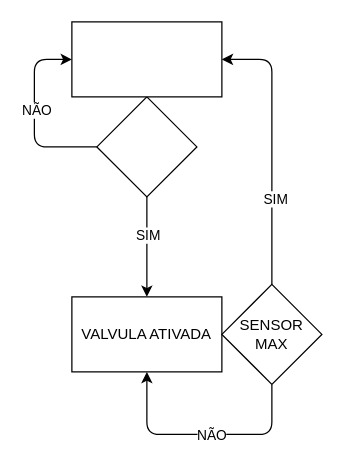
The diagram is 344 pixels wide and 466 high, and some of its shapes have lost their labels. Here are the shapes that lost their labels. From the top down, the box of each, then its label:
(71, 21, 222, 97): VALVULA DESATIVADA
(96, 96, 197, 197): SENSOR MIN
